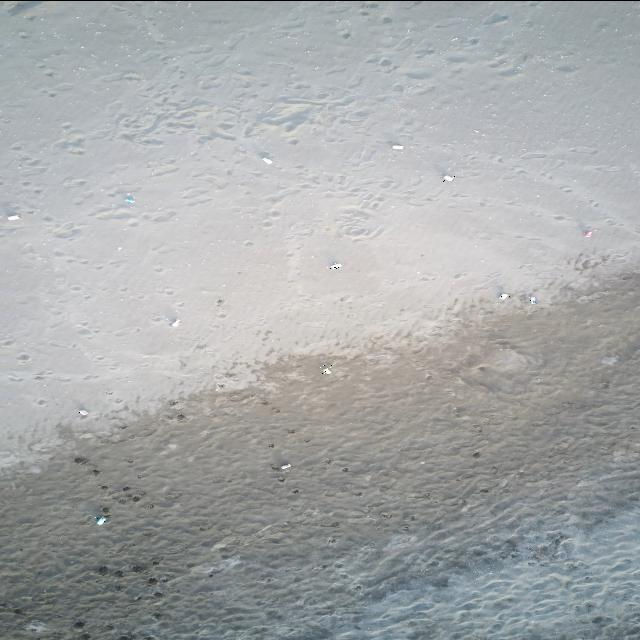Garbage: (24, 620, 48, 631), (600, 355, 617, 364), (124, 192, 134, 203), (320, 364, 332, 373), (95, 515, 108, 523), (497, 292, 510, 300), (328, 261, 342, 268), (8, 213, 20, 220), (169, 318, 179, 326), (261, 156, 272, 163), (280, 463, 291, 470), (583, 228, 592, 236), (77, 408, 87, 415), (528, 296, 536, 303), (392, 143, 403, 148), (442, 175, 453, 180)
